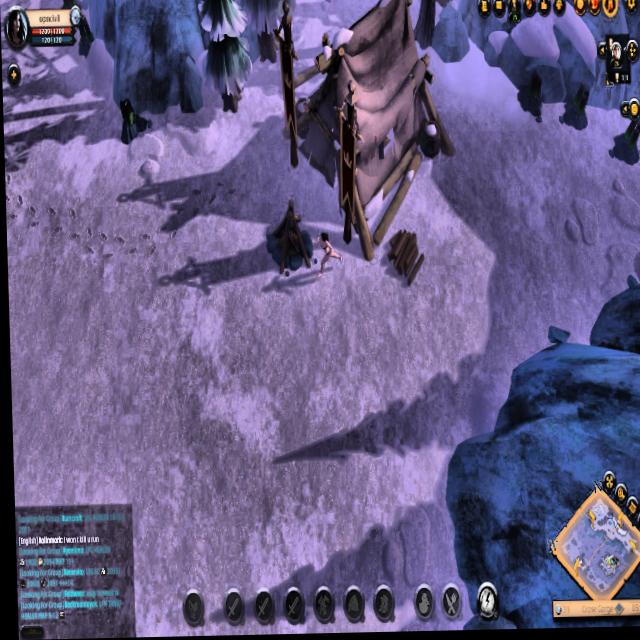tin_ore: (556, 80, 592, 139), (514, 71, 547, 134), (115, 90, 150, 147), (607, 121, 640, 170), (75, 15, 96, 61)
